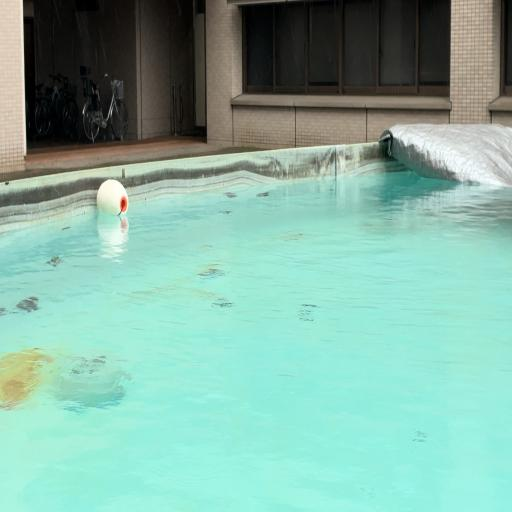white buoy: (97, 180, 128, 214)
